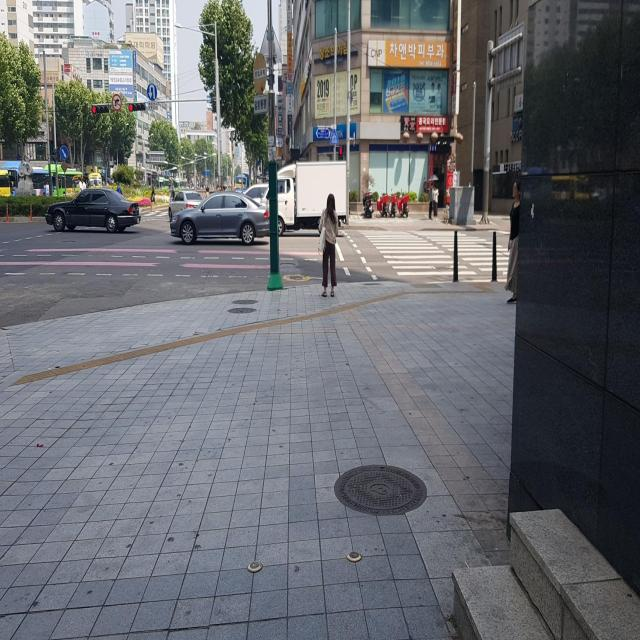빨간불: (337, 143, 345, 162)
횡단보도: (355, 229, 511, 277)
